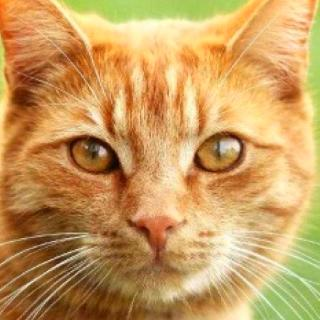cat: (0, 0, 317, 299)
nose: (123, 177, 194, 268)
